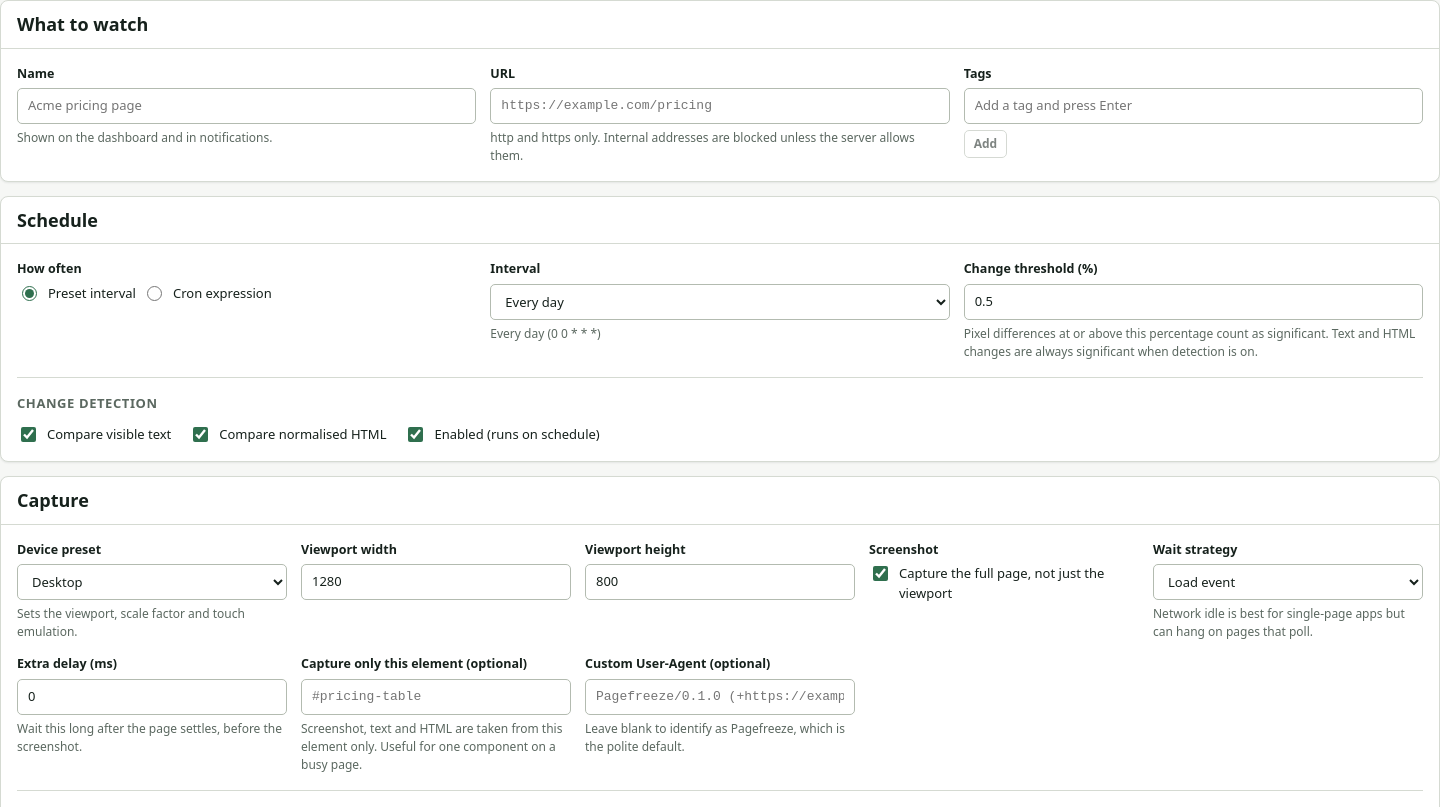
Scenario: MonitorForm schedule › describes a cron expression in human terms
Click the radio button labelled "Cron expression": {"x": 154, "y": 294} [147, 286, 162, 301]
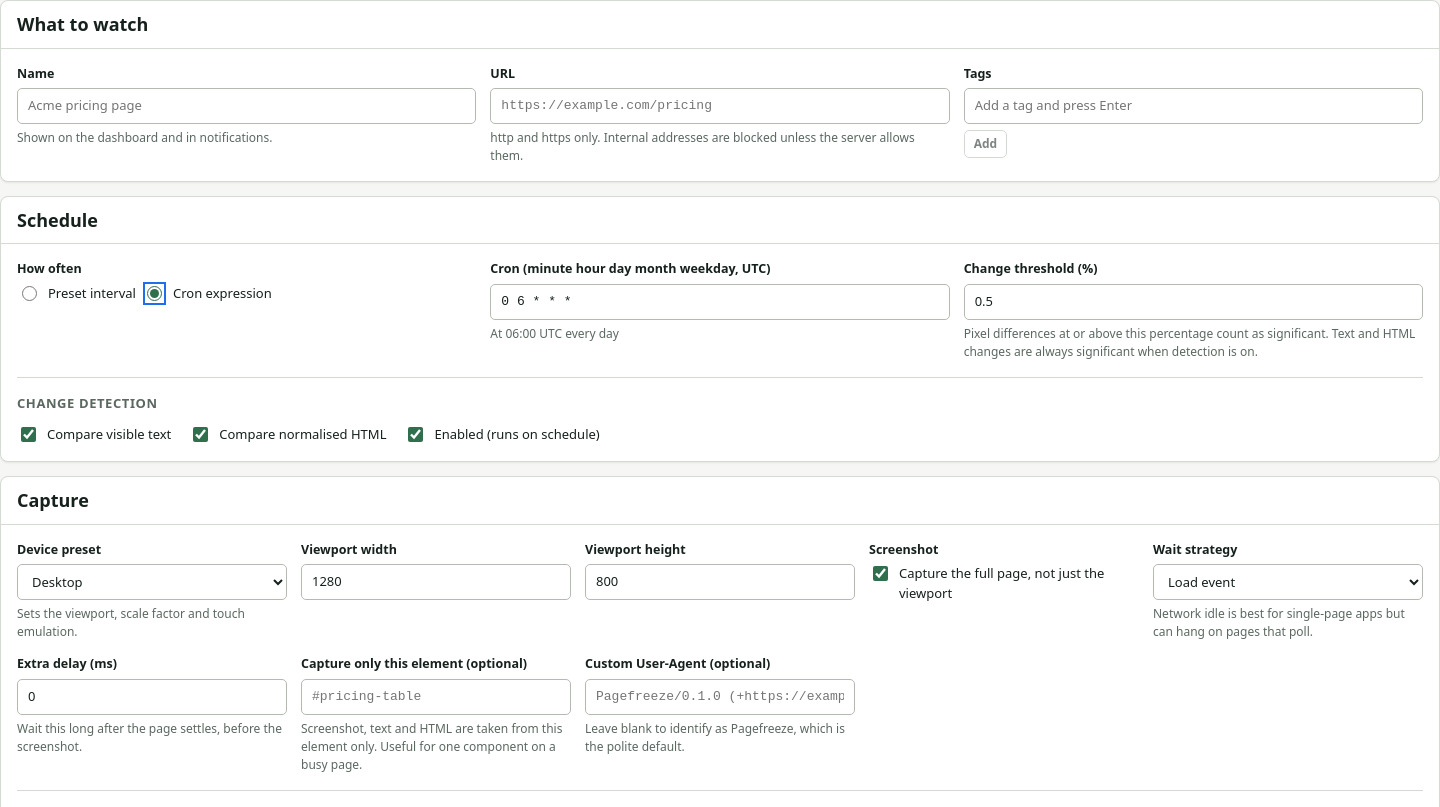
Result: the field labelled "Cron (minute hour day month weekday, UTC)" holds "0 6 * * *"
Result: the text "At 06:00 UTC every day" is shown at [490, 324, 619, 342]
Replace the text in the field labelled "Cron (minute hour day month weekday, UTC)" with "30 9 * * 1-5": {"x": 720, "y": 302} [490, 284, 950, 320]
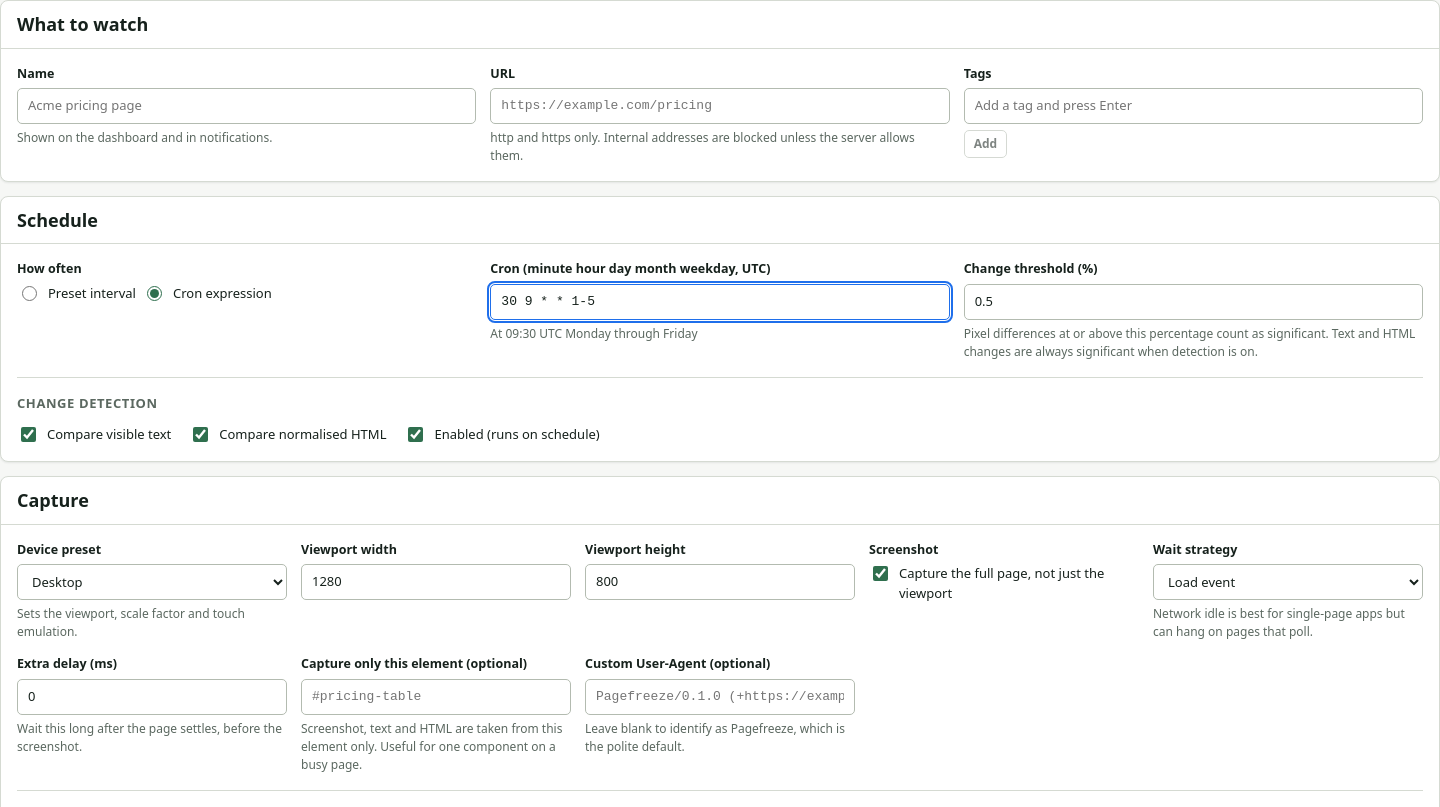
Result: the text "At 09:30 UTC Monday through Friday" is shown at [490, 324, 698, 342]
